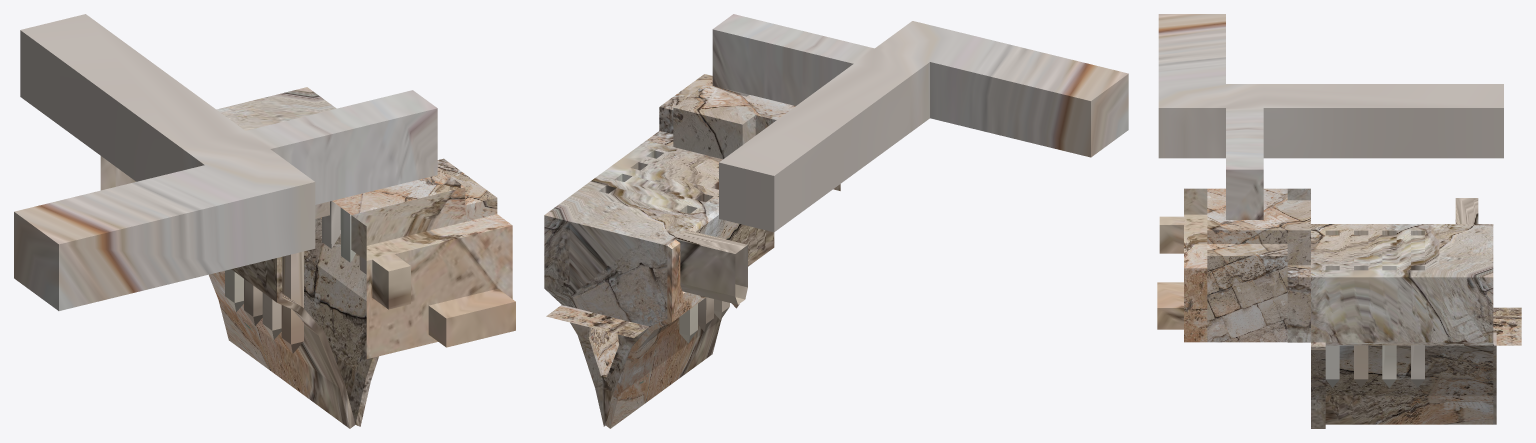
File: level_one.obj
The picture shows the model from 3 angles, left to right: view 1: azimuth 30°, elevation 25°; view 2: azimuth 150°, elevation 25°; view 3: azimuth 270°, elevation 25°; orthographic projection. The views are drawn at different scales.
Parts seen in each view (by area): view 1: Cube; view 2: Cube; view 3: Cube.
Boxes of the visible parts, box(x1,y1,x2,y2) form: Cube: box(14, 14, 515, 428); Cube: box(544, 14, 1128, 428); Cube: box(1157, 14, 1521, 428).
Size of the model in its own units: 34.45 by 24.55 by 30.35.
